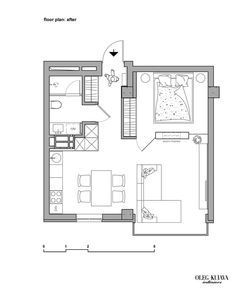door: (103, 39, 129, 60), (135, 134, 156, 153), (97, 104, 112, 125), (65, 79, 81, 98)
room: (53, 68, 133, 151), (132, 69, 213, 147), (134, 150, 207, 234), (49, 151, 135, 219)
wall: (41, 57, 53, 223), (207, 62, 217, 222), (133, 63, 215, 75), (41, 212, 78, 225), (124, 59, 135, 100), (101, 212, 136, 222), (120, 101, 126, 140), (81, 75, 86, 105), (121, 133, 136, 140), (84, 100, 99, 107)
window: (78, 214, 102, 224)
